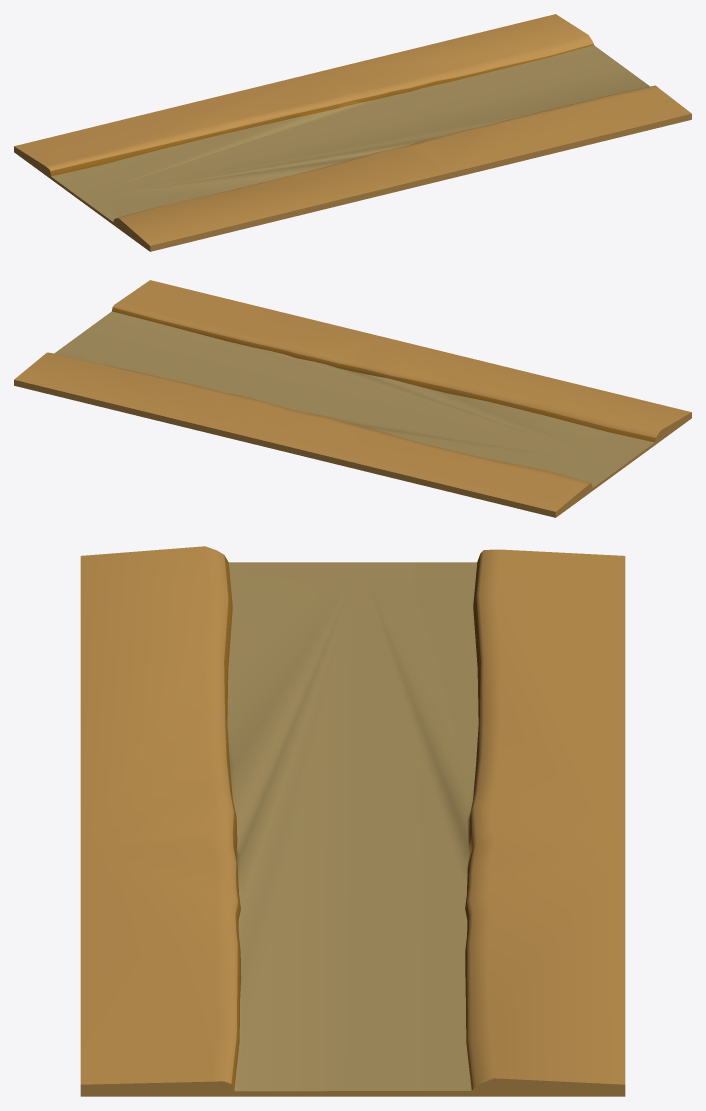
The model's file is PATHHH.fbx.
3 renders of one model, top to bottom at view 1: azimuth 30°, elevation 25°; view 2: azimuth 150°, elevation 25°; view 3: azimuth 270°, elevation 25°, orthographic. The views are drawn at different scales.
Visible parts, largest first — view 1: Cube.006; view 2: Cube.006; view 3: Cube.006.
Part boxes in pixels (<box>): Cube.006: <box>14,14,691,251</box>; Cube.006: <box>14,280,691,517</box>; Cube.006: <box>80,546,625,1096</box>.
Bounding box in the file's own units: 247 × 5.04 × 108.
